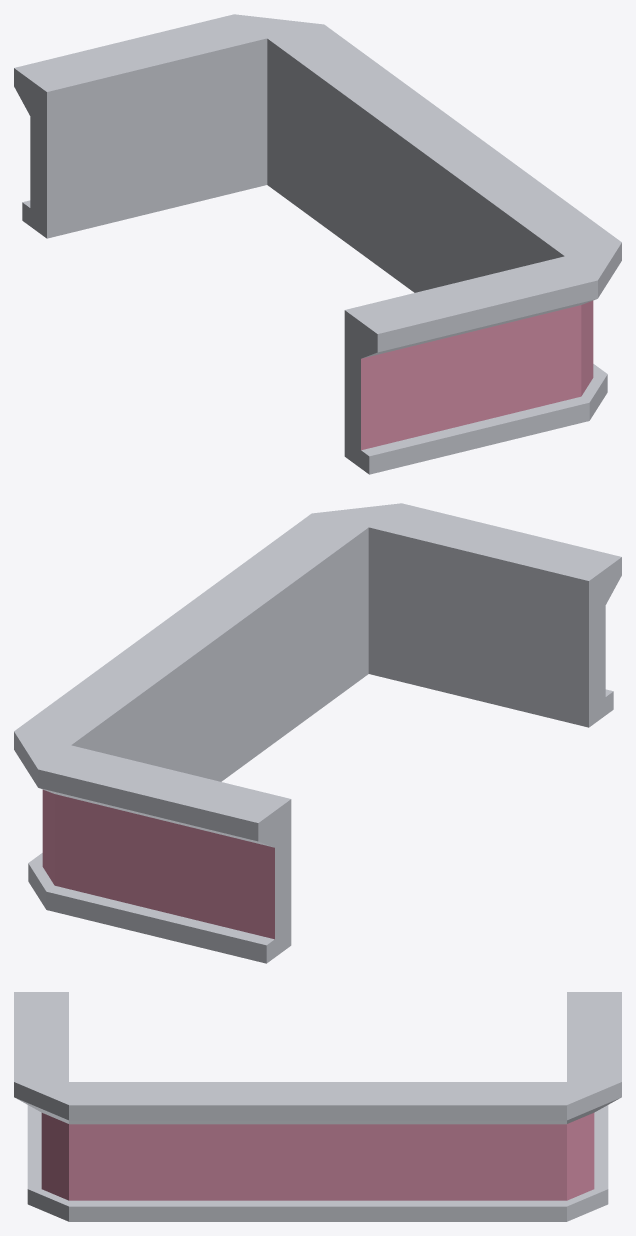
File: KSI_ledge_painted_corner_double.glb
3 views of the same model, one above another, from view 1: azimuth 30°, elevation 25°; view 2: azimuth 150°, elevation 25°; view 3: azimuth 270°, elevation 25° (orthographic). The views are drawn at different scales.
Visible parts, largest first — view 1: tmpParent; view 2: tmpParent; view 3: tmpParent.
Boxes of the visible parts, x1,y1,x2,y2 form: tmpParent: (14, 14, 621, 474); tmpParent: (14, 503, 621, 963); tmpParent: (14, 992, 621, 1221).
Bounding box in the file's own units: 0.4613 × 0.2329 × 1.05.
